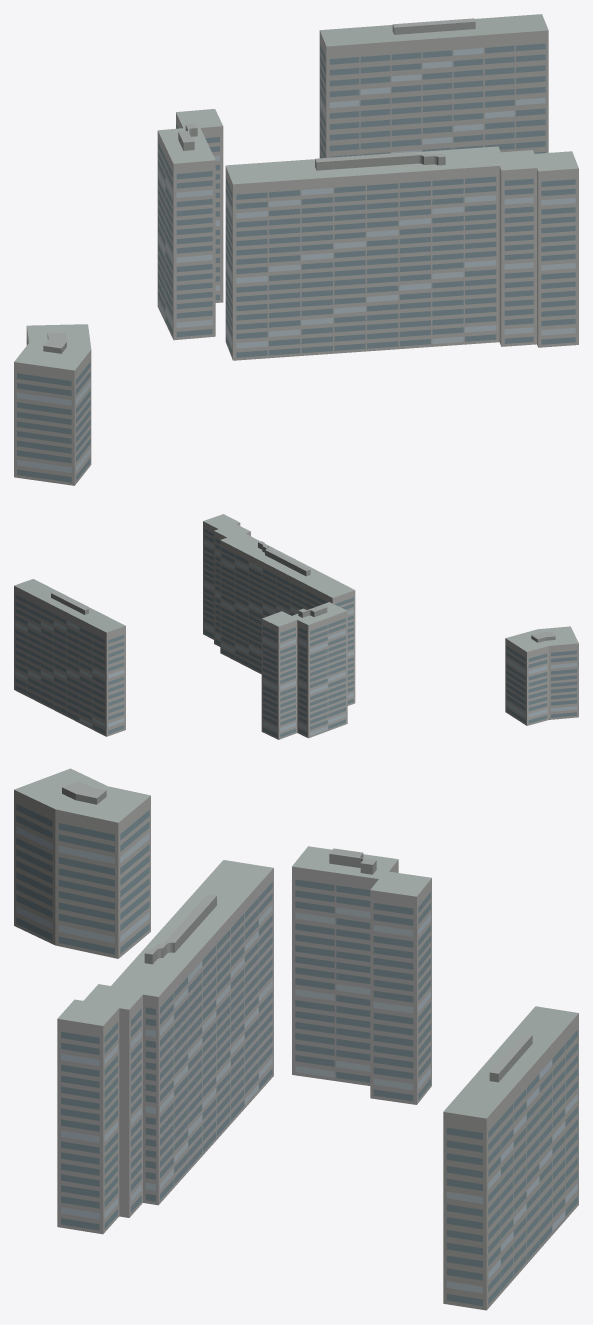
The model's file is apt-a14319006.glb.
The picture shows the model from 3 angles, top to bottom: view 1: azimuth 30°, elevation 25°; view 2: azimuth 150°, elevation 25°; view 3: azimuth 270°, elevation 25°; orthographic projection. The views are drawn at different scales.
Parts seen in each view (by area): view 1: apt-a14319006; view 2: apt-a14319006; view 3: apt-a14319006.
Part boxes in pixels (x1,y1,x2,y2): apt-a14319006: [14, 14, 578, 485]; apt-a14319006: [14, 514, 578, 739]; apt-a14319006: [14, 768, 578, 1310].
Bounding box in the file's own units: 207 × 52 × 122.
